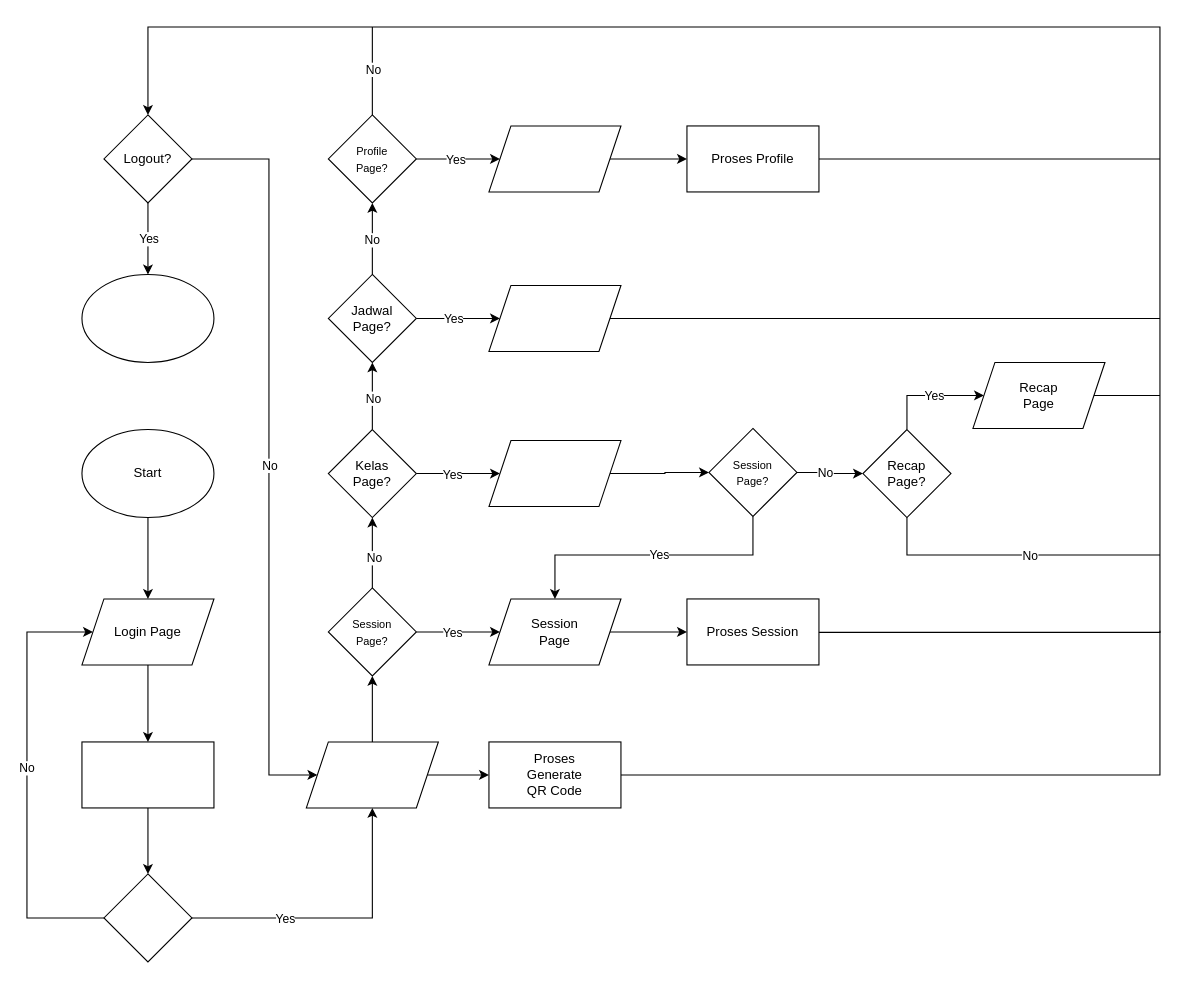
This 1188x981 diagram has some shape labels left out. The centre of each missing label's shape, as x and y in pixels:
Dashboard Page: pixel 371 774
Exit: pixel 147 317
Jadwal Page: pixel 554 317
Kelas Page: pixel 554 473
Profile Page: pixel 554 158
Proses Login: pixel 147 774
Verified?: pixel 147 917
